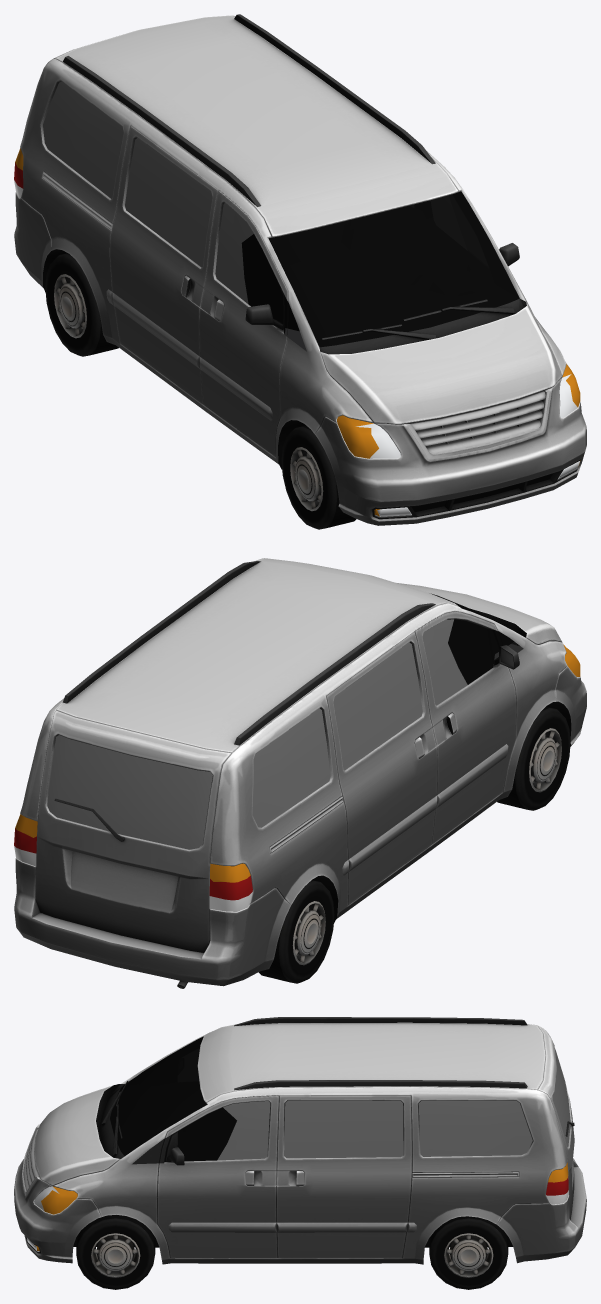
Rendered from car_traffic_5.glb.
3 renders of one model, top to bottom at view 1: azimuth 30°, elevation 25°; view 2: azimuth 150°, elevation 25°; view 3: azimuth 270°, elevation 25°, orthographic. The views are drawn at different scales.
Parts seen in each view (by area): view 1: Body, Glass, WheelFR, WheelRR, Headlights, IndicatorFR; view 2: Body, Glass, WheelRR, WheelFR, Brakelights, Reverselights, IndicatorRR; view 3: Body, Glass, WheelFL, WheelRL, IndicatorFL.
Part boxes in pixels (box(x1,y1,x2,y2)): Body: box(14, 14, 586, 525); Glass: box(43, 81, 519, 351); WheelFR: box(281, 425, 356, 529); WheelRR: box(45, 253, 118, 356); Headlights: box(356, 374, 579, 516); IndicatorFR: box(337, 415, 379, 516); Body: box(14, 558, 586, 988); Glass: box(47, 593, 523, 849); WheelRR: box(258, 880, 334, 983); WheelFR: box(497, 706, 570, 810); Brakelights: box(14, 828, 252, 900); Reverselights: box(14, 846, 252, 911); IndicatorRR: box(210, 863, 250, 882); Body: box(14, 1017, 586, 1264); Glass: box(110, 1036, 570, 1161); WheelFL: box(76, 1215, 155, 1289); WheelRL: box(429, 1216, 508, 1289); IndicatorFL: box(35, 1186, 77, 1251).
Bounding box in the file's own units: 1.82 × 1.72 × 4.5.
Materials: 8 (2 with a texture image).
